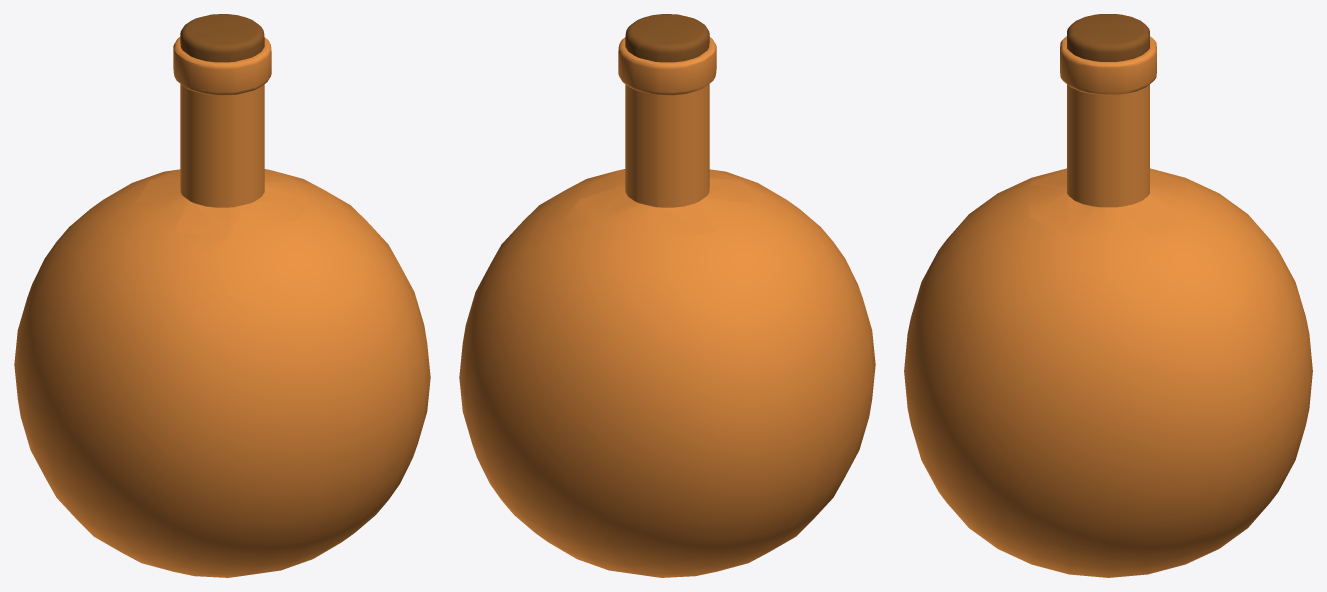
Rendered from jarron_1.fbx.
The picture shows the model from 3 angles, left to right: view 1: azimuth 30°, elevation 25°; view 2: azimuth 150°, elevation 25°; view 3: azimuth 270°, elevation 25°; orthographic projection.
Visible parts, largest first — view 1: Cube; view 2: Cube; view 3: Cube.
Part boxes in pixels (bbox=[...]): Cube: bbox=[14, 14, 430, 577]; Cube: bbox=[459, 14, 875, 577]; Cube: bbox=[904, 14, 1312, 577].
Bounding box in the file's own units: 168 × 239 × 168.
